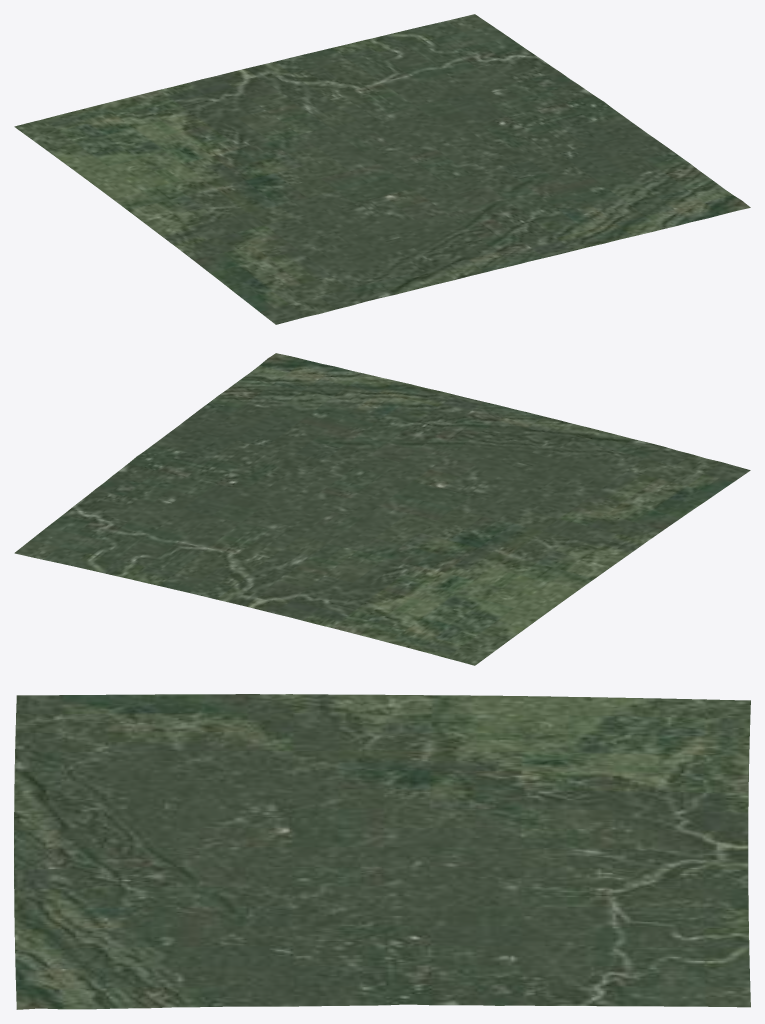
The picture shows the model from 3 angles, top to bottom: view 1: azimuth 30°, elevation 25°; view 2: azimuth 150°, elevation 25°; view 3: azimuth 270°, elevation 25°; orthographic projection. The views are drawn at different scales.
Size of the model in its own units: 251661 by 2631 by 247835.
Materials: 1 (1 with a texture image).
